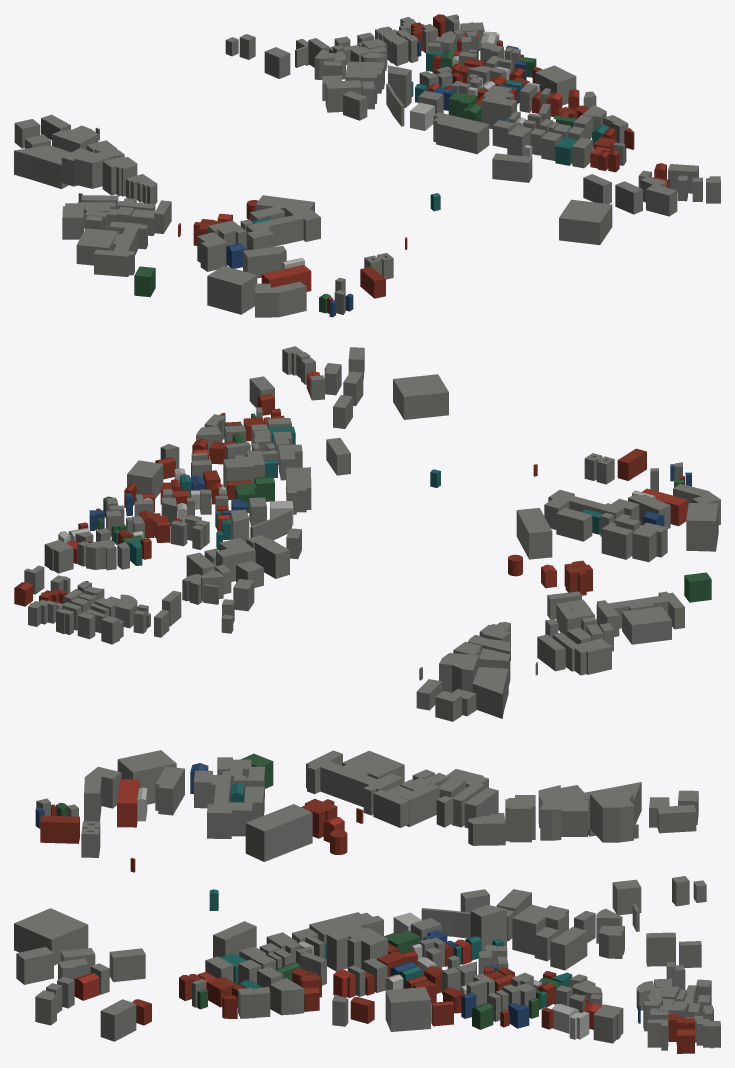
The model's file is near-16-54722-29739.cc1e8b07.glb.
3 views of the same model, one above another, from view 1: azimuth 30°, elevation 25°; view 2: azimuth 150°, elevation 25°; view 3: azimuth 270°, elevation 25° (orthographic). The views are drawn at different scales.
Size of the model in its own units: 618 by 87.6 by 611.
